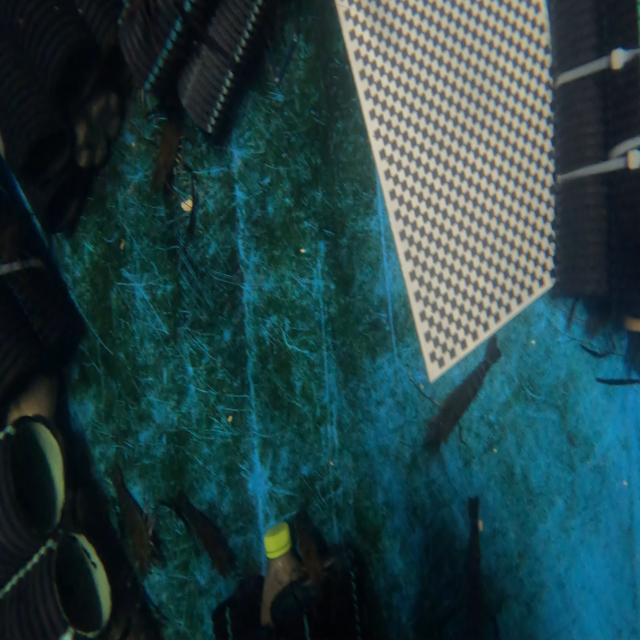prawn: (424, 341, 499, 448), (111, 470, 160, 584), (170, 494, 234, 577), (201, 525, 233, 579), (172, 509, 201, 542)
